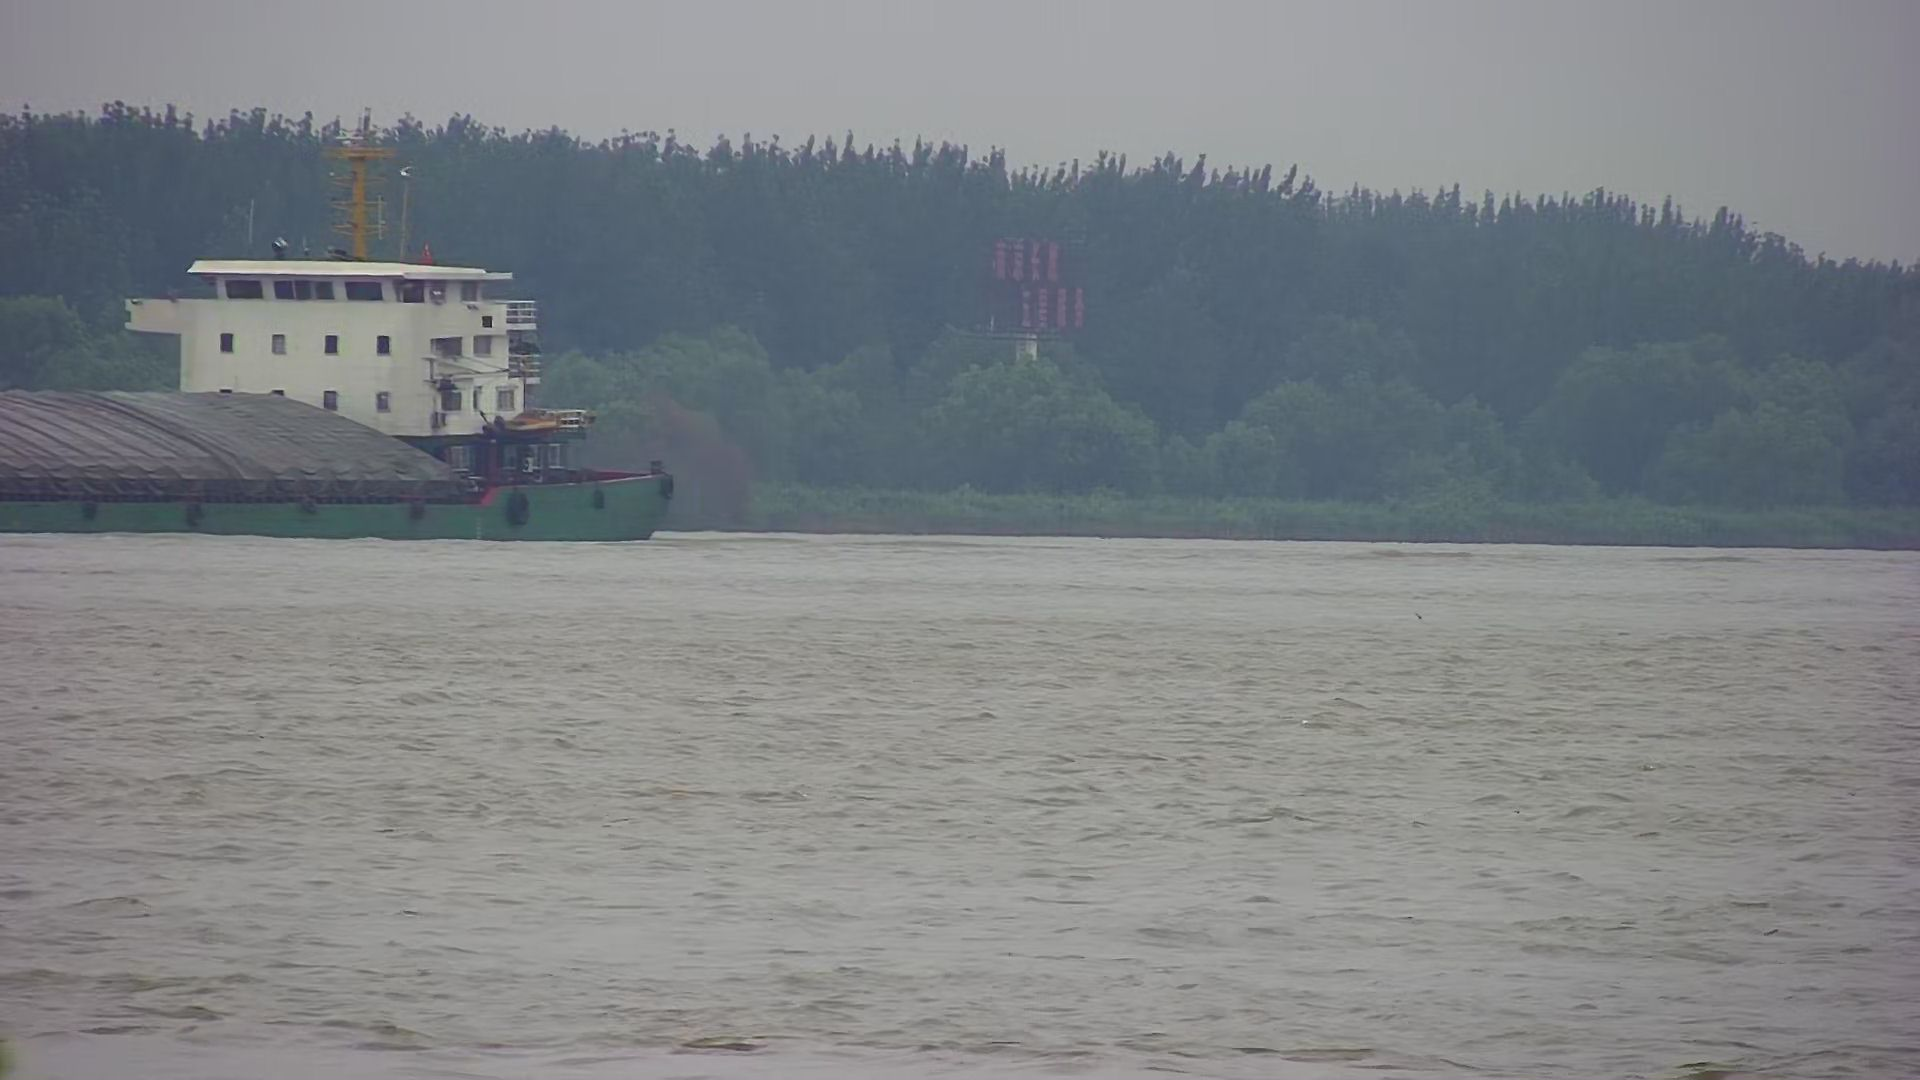ship: (3, 119, 674, 550)
